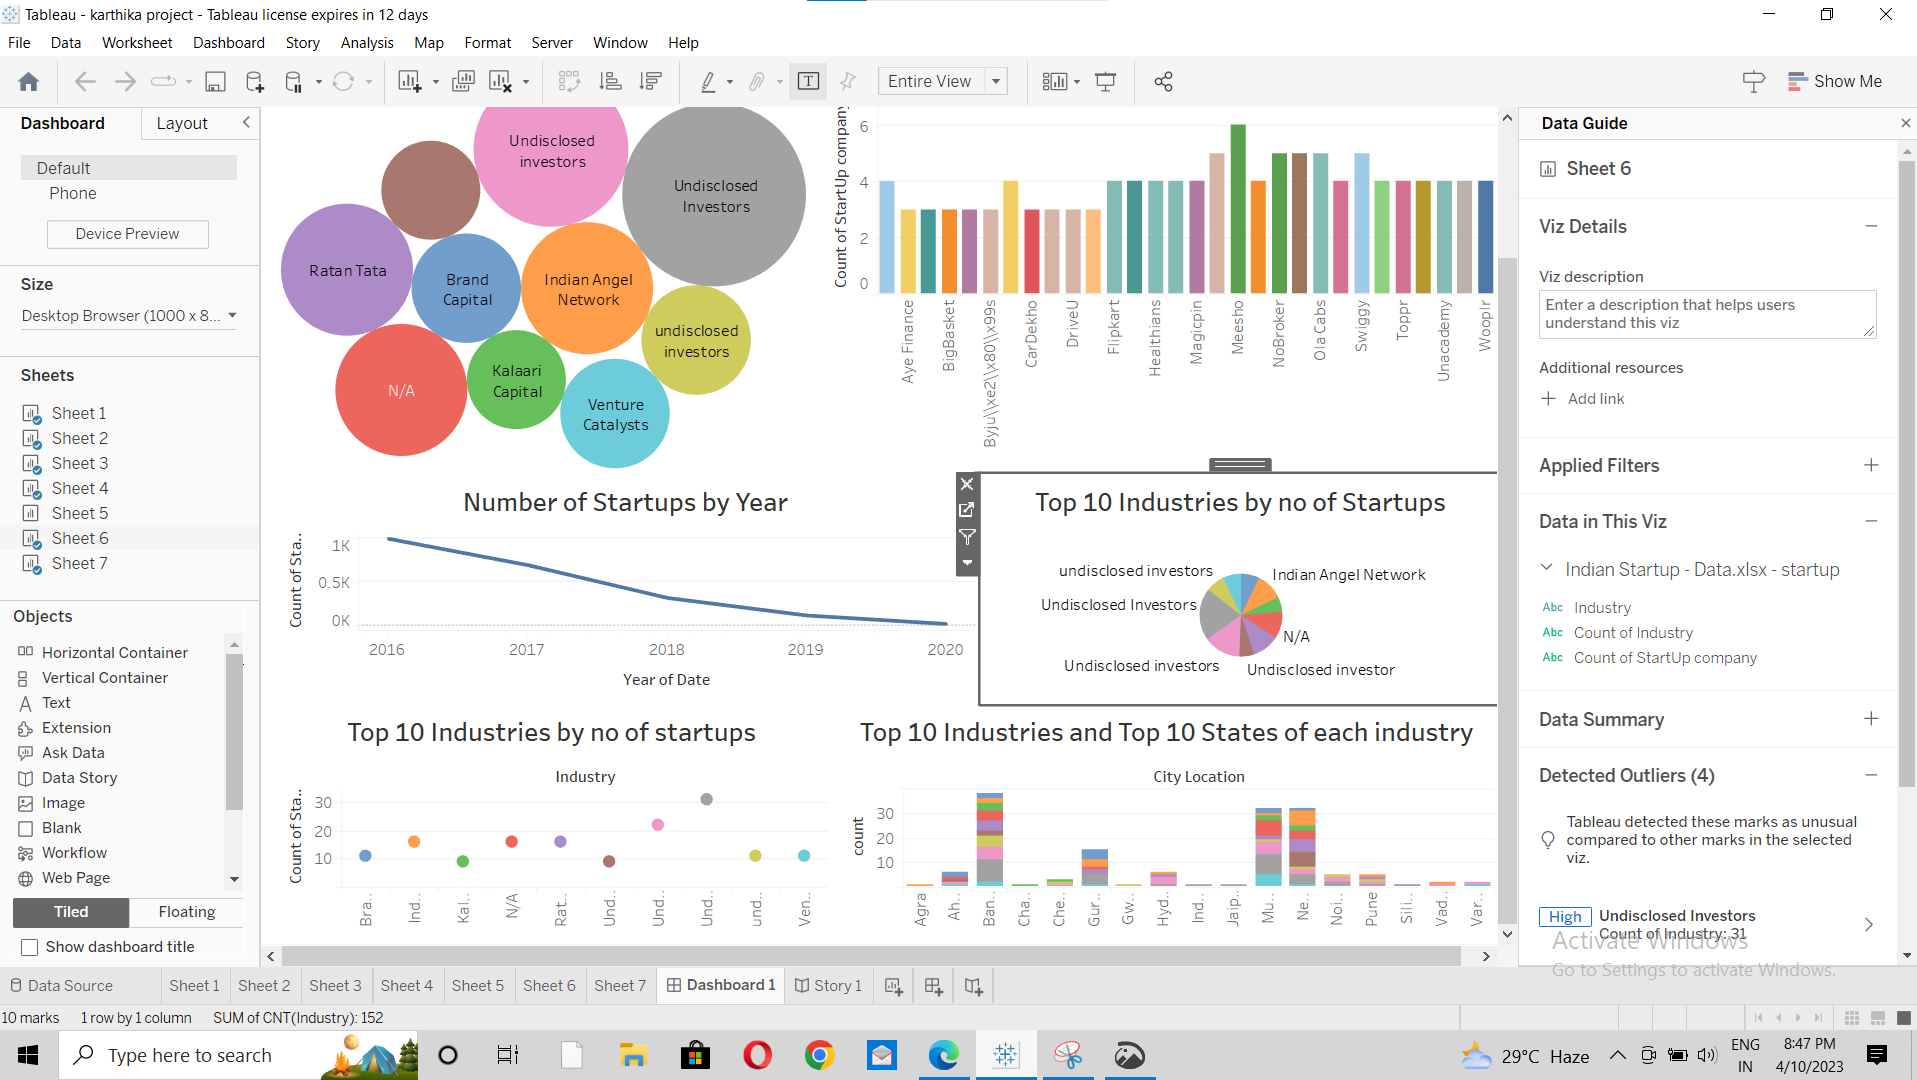

The page's visual inventory and layout, read from the dashboard file:
{"tool":"tableau","page":{"name":"Dashboard 1","canvas":[1000,800],"ordinal":0},"visuals":[{"type":"title","box":[8,8,984,48]},{"type":"worksheet","title":"Sheet 2","mark":"Circle","box":[8,56,436,368]},{"type":"worksheet","title":"Sheet 3","mark":"Automatic","rows":["StartUp Name"],"cols":["StartUp Name"],"box":[444,56,548,368]},{"type":"worksheet","title":"Sheet 1","mark":"Automatic","rows":["StartUp Name"],"cols":["Date"],"box":[8,424,568,184]},{"type":"worksheet","title":"Sheet 6","mark":"Pie","box":[576,424,416,184]},{"type":"worksheet","title":"Sheet 4","mark":"Pie","rows":["StartUp Name"],"cols":["Investors"],"box":[8,608,450,184]},{"type":"worksheet","title":"Sheet 7","mark":"Automatic","rows":["Calculation_96545930240155650"],"cols":["City Location"],"box":[458,608,534,184]}]}

Visuals, with their boxes on the page's 1000x800 design canvas (x1, y1, x2, y2). These are canvas units, not pixel positions in the 1917x1080 screenshot, which may show the page scaled, cropped or inside an application window:
title: left=8, top=8, right=992, bottom=56
"Sheet 2" worksheet (Circle marks): left=8, top=56, right=444, bottom=424
"Sheet 3" worksheet: left=444, top=56, right=992, bottom=424
"Sheet 1" worksheet: left=8, top=424, right=576, bottom=608
"Sheet 6" worksheet (Pie marks): left=576, top=424, right=992, bottom=608
"Sheet 4" worksheet (Pie marks): left=8, top=608, right=458, bottom=792
"Sheet 7" worksheet: left=458, top=608, right=992, bottom=792
